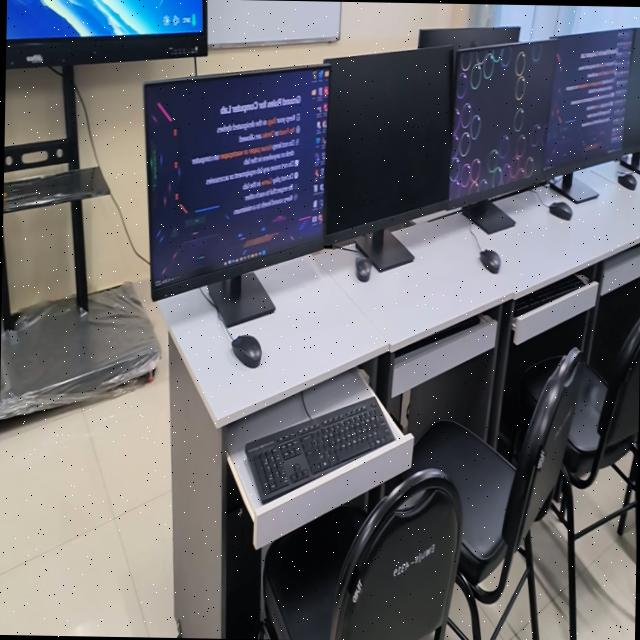Chair: (405, 346, 588, 640), (262, 467, 461, 640), (561, 314, 640, 580)
Cpu: (225, 468, 259, 639)
Digital board: (0, 0, 205, 418)
Keyboard: (245, 395, 393, 502), (513, 272, 585, 315)
Monitor: (143, 64, 328, 325), (322, 45, 454, 269), (447, 39, 556, 231), (542, 29, 635, 199), (620, 27, 640, 153), (417, 25, 518, 48)
Mouse: (231, 333, 260, 366), (478, 248, 500, 272), (548, 200, 571, 219), (354, 256, 371, 280), (617, 172, 635, 189)
